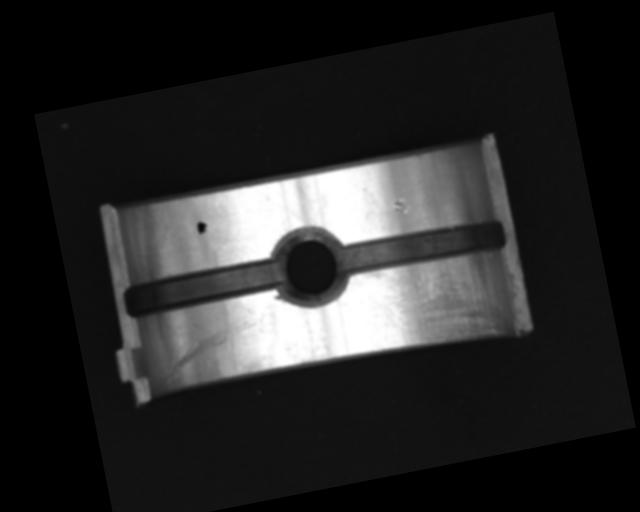blot: (195, 219, 208, 237)
bruise: (390, 195, 412, 217)
gap: (336, 213, 511, 283), (120, 255, 285, 320)
hole: (264, 223, 354, 312)
nick: (155, 308, 272, 385)
scratch: (368, 247, 508, 359)
